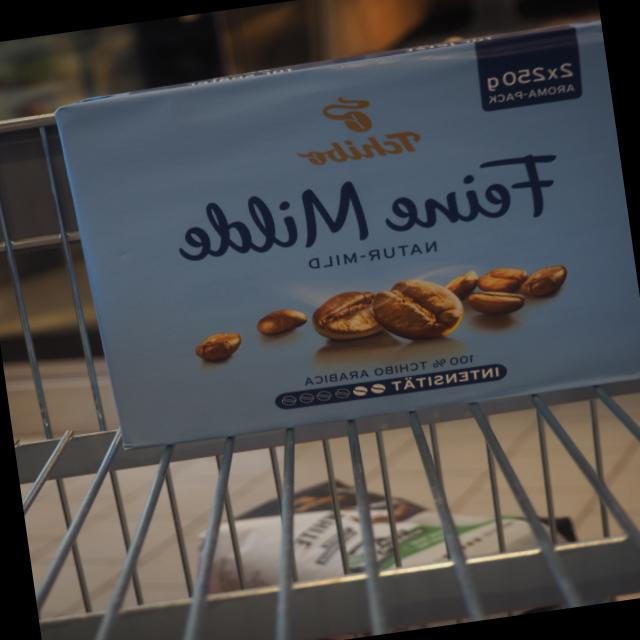FM Gemahlen: (44, 14, 640, 460)
